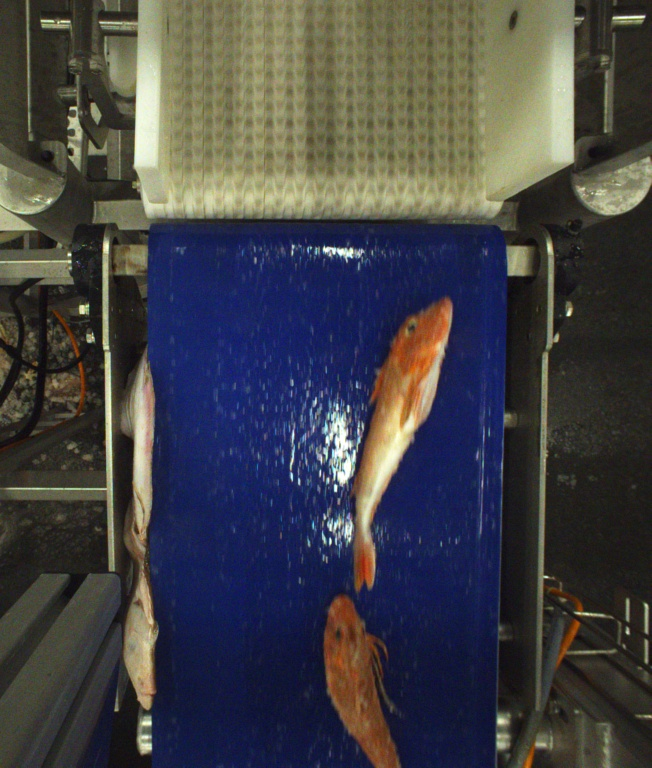GUU: (344, 293, 455, 595)
